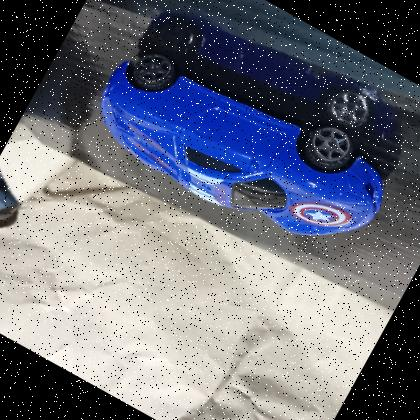Car: (71, 13, 412, 287)
